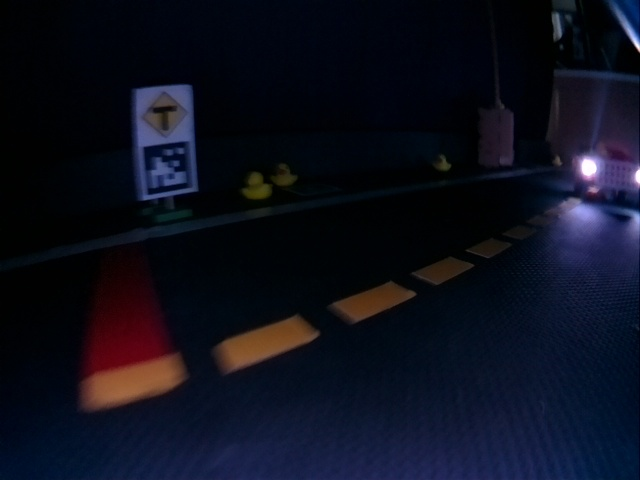Duckie: (243, 172, 270, 199), (274, 165, 297, 186), (435, 155, 450, 171)
Duckiebot: (573, 146, 639, 201)
Intersection sign: (139, 89, 190, 137)
QR code: (138, 141, 192, 195)
